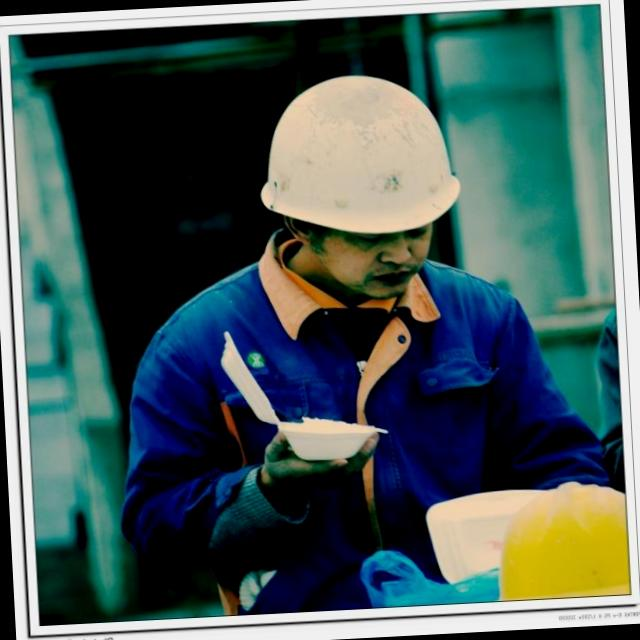helmet: (251, 72, 467, 246)
vest: (132, 276, 548, 618)
